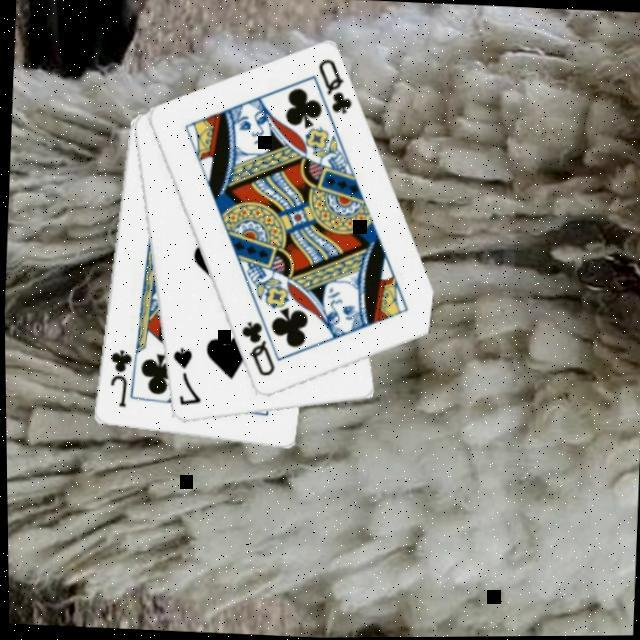7S: (167, 345, 207, 411)
JC: (105, 347, 137, 412)
QC: (236, 318, 281, 381), (313, 56, 358, 119)
